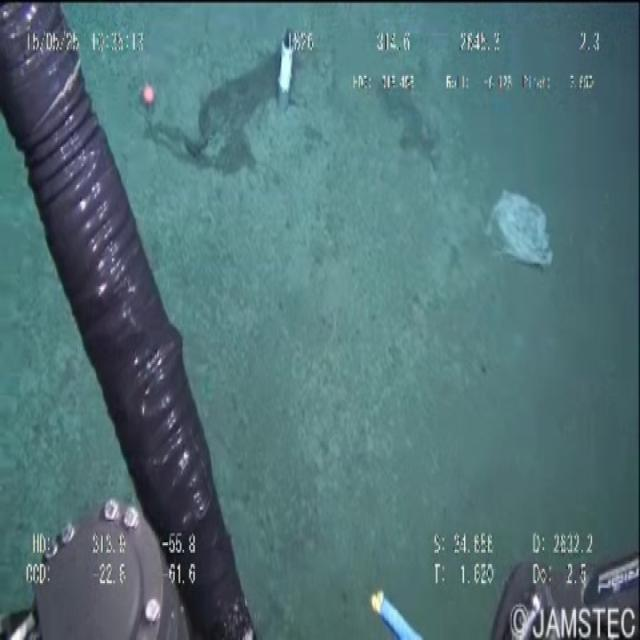Metal: (278, 32, 303, 114)
Plastic: (486, 176, 554, 286)
